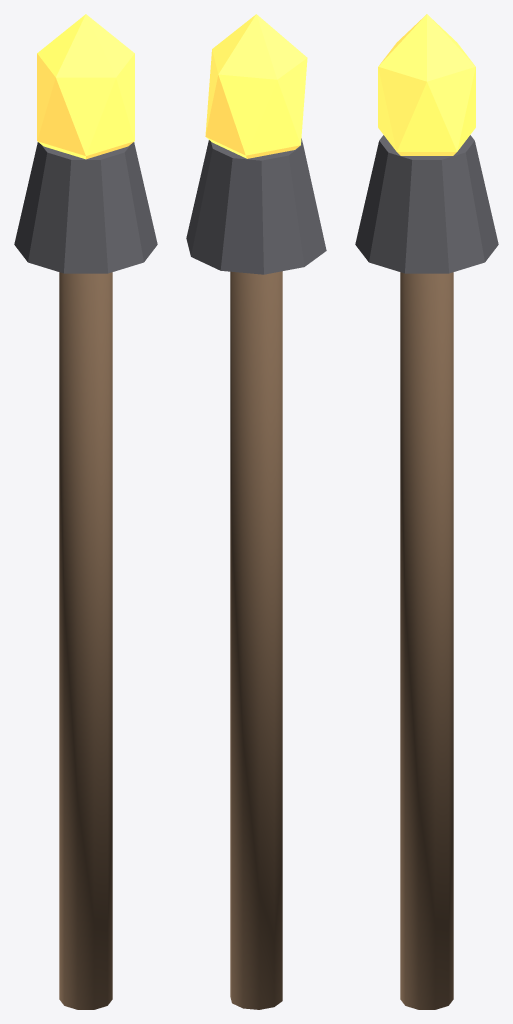
File: torch.glb
The picture shows the model from 3 angles, left to right: view 1: azimuth 90°, elevation 25°; view 2: azimuth 150°, elevation 25°; view 3: azimuth 270°, elevation 25°; orthographic projection.
Parts seen in each view (by area): view 1: Pole, Cup, Flame; view 2: Pole, Cup, Flame; view 3: Pole, Cup, Flame.
Boxes of the visible parts, left/top/right/bottom form: Pole: left=59, top=272, right=112, bottom=1009; Cup: left=14, top=142, right=157, bottom=273; Flame: left=37, top=14, right=134, bottom=159; Pole: left=230, top=271, right=282, bottom=1009; Cup: left=186, top=138, right=326, bottom=274; Flame: left=205, top=14, right=307, bottom=158; Pole: left=400, top=272, right=453, bottom=1009; Cup: left=355, top=135, right=498, bottom=273; Flame: left=378, top=14, right=475, bottom=155.
Bounding box in the file's own units: 0.1427 × 1.14 × 0.15.
